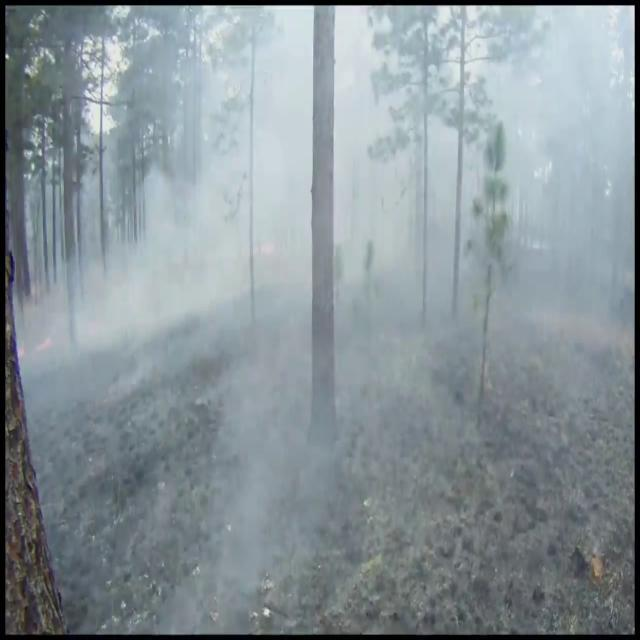Smoke: (28, 8, 588, 620)
